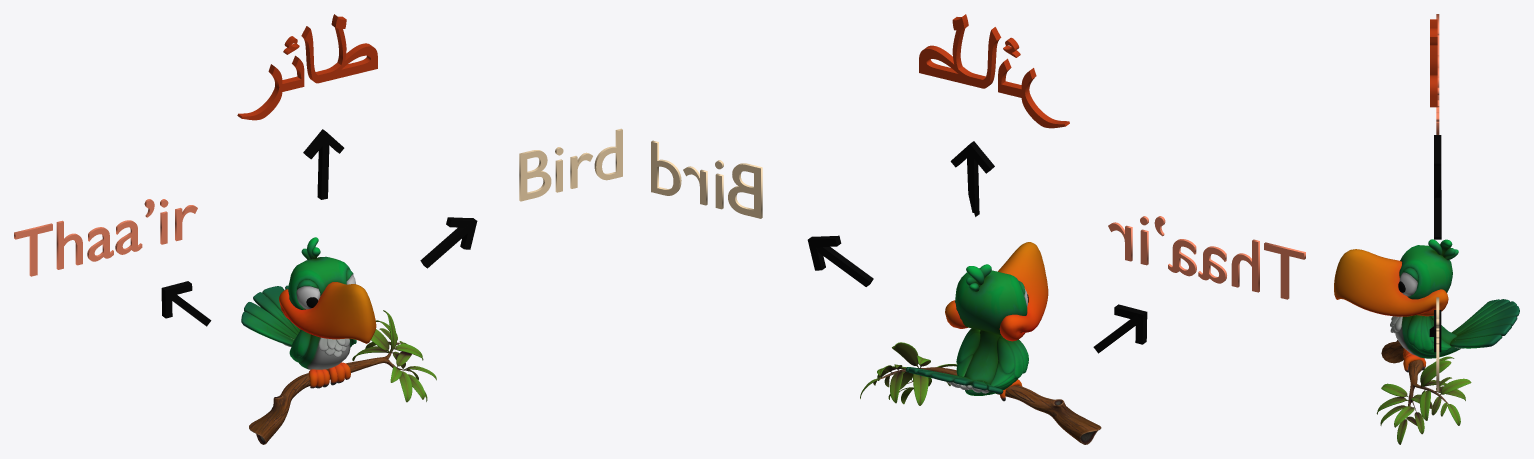
Rendered from Bird3.fbx.
The picture shows the model from 3 angles, left to right: view 1: azimuth 30°, elevation 25°; view 2: azimuth 150°, elevation 25°; view 3: azimuth 270°, elevation 25°; orthographic projection. The views are drawn at different scales.
Visible parts, largest first — view 1: SM_Bird.001, SM_branch.001, text4, Text.001, Text, Cube.001, Cube.003, Cube.002; view 2: SM_Bird.001, text4, Text.001, SM_branch.001, Text, Cube.001, Cube.003, Cube.002; view 3: SM_Bird.001, SM_branch.001, text4, Cube.003, Text.001, Text, Cube.002, Cube.001.
Boxes of the visible parts, x1,y1,x2,y2 form: SM_Bird.001: (241,237,376,388); SM_branch.001: (249,310,436,444); text4: (237,14,377,120); Text.001: (14,199,197,276); Text: (519,128,622,201); Cube.001: (420,217,477,268); Cube.003: (303,129,344,199); Cube.002: (161,281,211,326); SM_Bird.001: (905,242,1048,401); text4: (919,14,1069,128); Text.001: (1108,216,1305,299); SM_branch.001: (860,342,1101,444); Text: (651,140,762,218); Cube.001: (807,235,873,286); Cube.003: (950,141,994,216); Cube.002: (1093,304,1147,353); SM_Bird.001: (1334,239,1519,372); SM_branch.001: (1376,340,1471,444); text4: (1430,19,1437,107); Cube.003: (1434,135,1441,200); Text.001: (1436,14,1439,134); Text: (1436,297,1439,391); Cube.002: (1434,190,1441,239); Cube.001: (1429,310,1441,352).
Size of the model in its own units: 178 by 110 by 48.29.
Materials: 6 (2 with a texture image).
